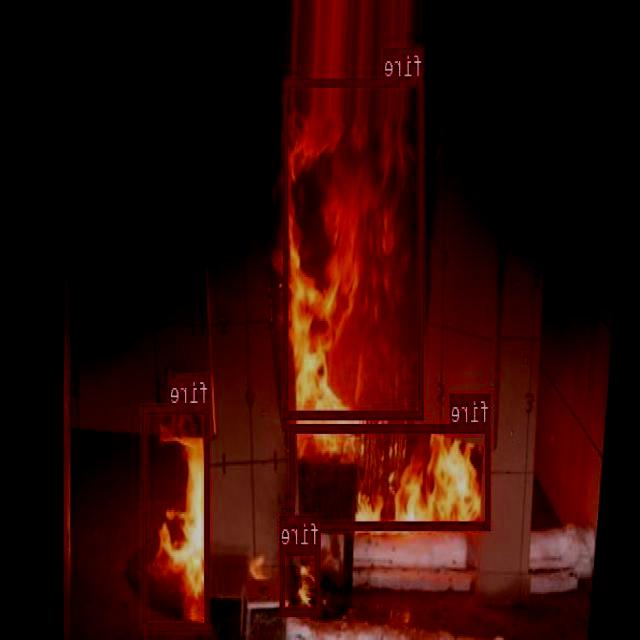fire: (284, 78, 425, 418), (292, 423, 492, 528), (144, 403, 211, 630), (282, 544, 322, 614)
